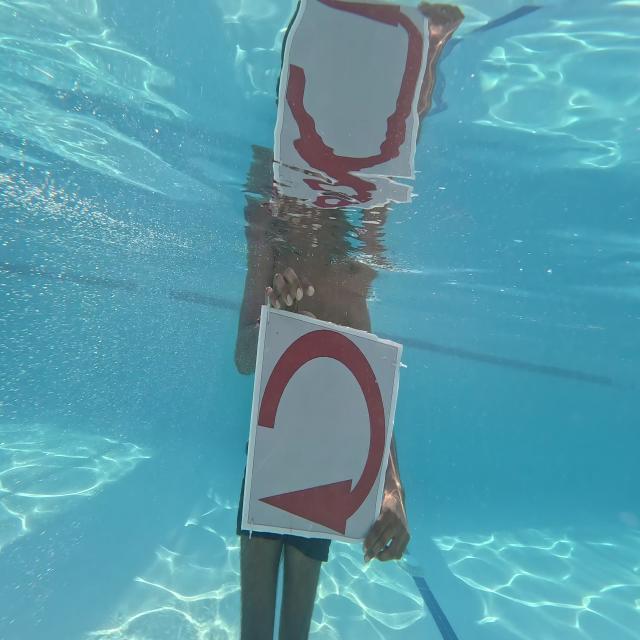red_side: (246, 304, 393, 552)
